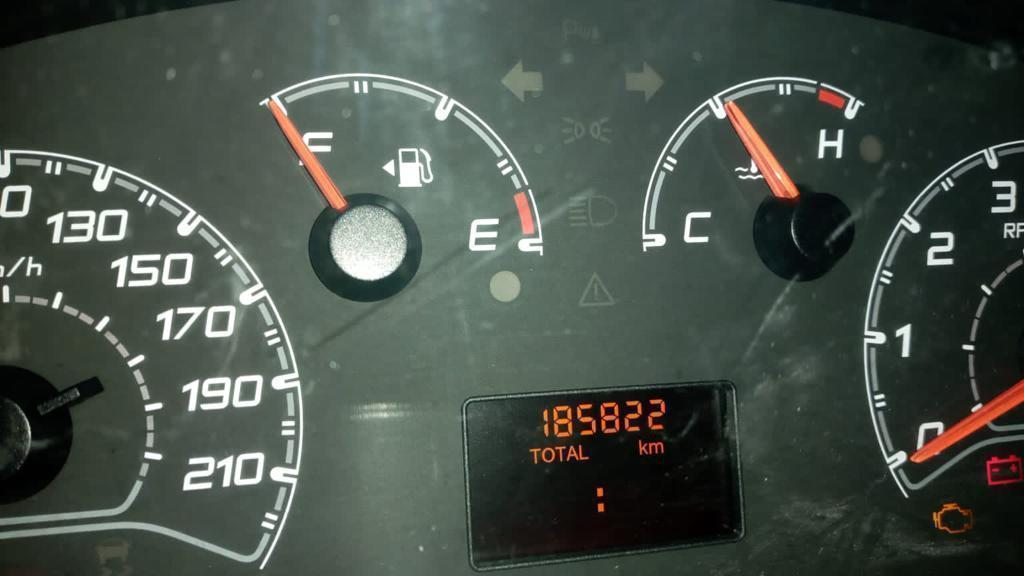1: (540, 405, 551, 439)
2: (623, 398, 644, 433), (648, 398, 666, 432)
5: (575, 402, 597, 437)
8: (552, 403, 573, 439), (599, 400, 620, 435)
X: (592, 481, 606, 515), (648, 440, 665, 455), (541, 445, 554, 464), (527, 445, 540, 464), (578, 442, 590, 461), (566, 444, 578, 463), (637, 437, 648, 457), (554, 444, 566, 462)
odometer: (458, 375, 746, 572)
